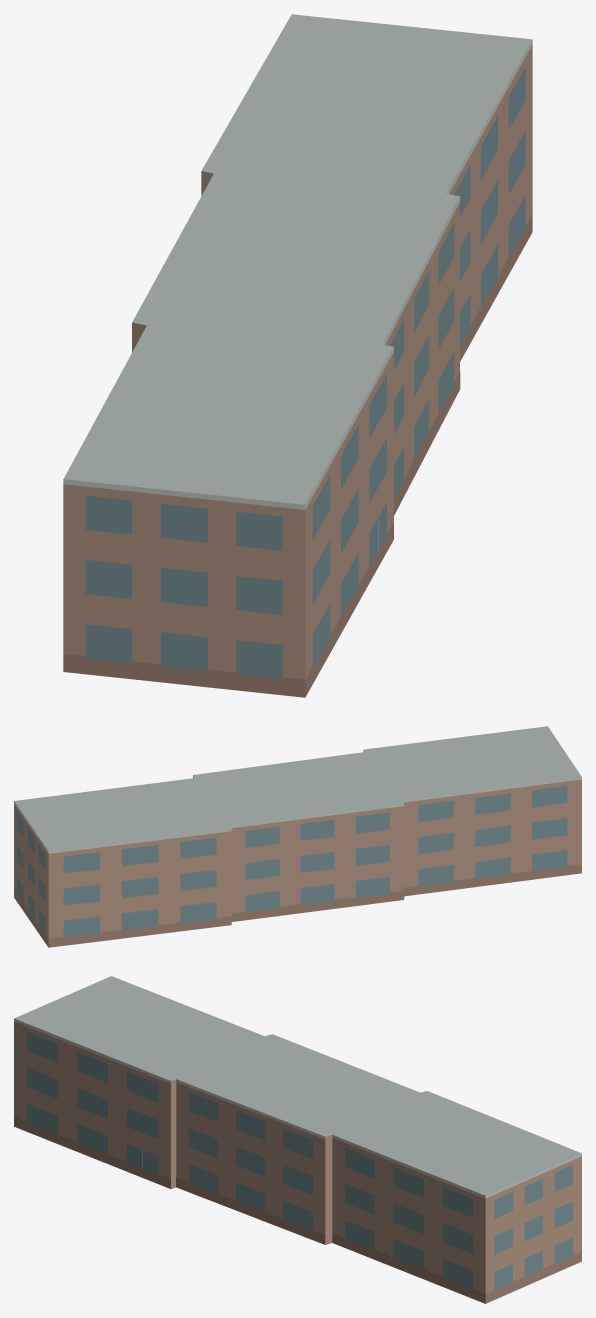
File: survey-upis-32936090.glb
The picture shows the model from 3 angles, top to bottom: view 1: azimuth 30°, elevation 25°; view 2: azimuth 150°, elevation 25°; view 3: azimuth 270°, elevation 25°; orthographic projection. The views are drawn at different scales.
Parts seen in each view (by area): view 1: survey-upis-32936090.tmp; view 2: survey-upis-32936090.tmp; view 3: survey-upis-32936090.tmp.
Part boxes in pixels (x1=…): survey-upis-32936090.tmp: x1=63, y1=14, x2=532, y2=697; survey-upis-32936090.tmp: x1=14, y1=726, x2=581, y2=947; survey-upis-32936090.tmp: x1=14, y1=976, x2=581, y2=1303.
Bounding box in the file's own units: 39.85 × 9.15 × 43.53.
